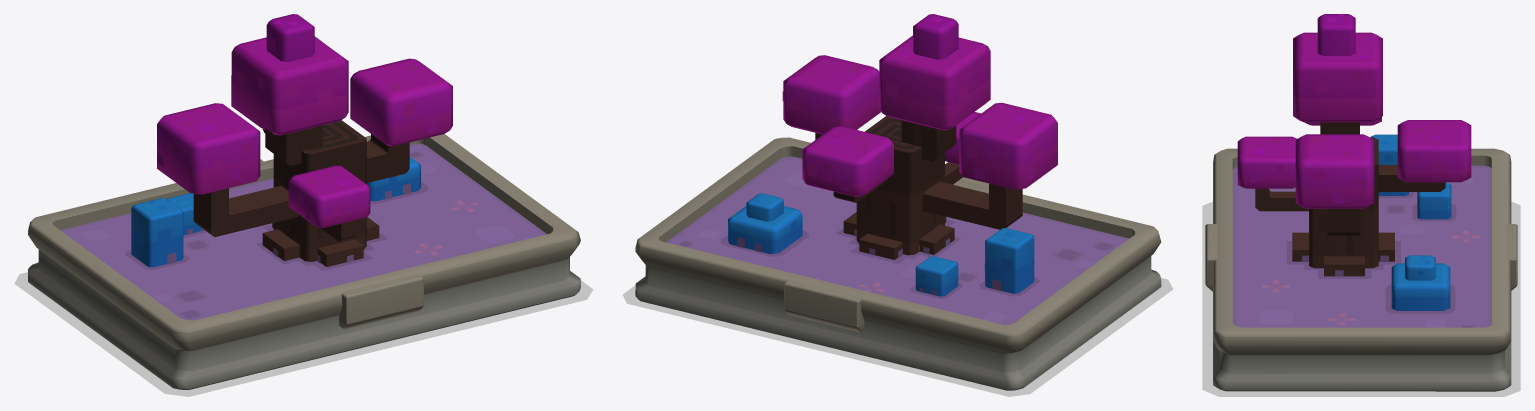
The model's file is MG_forest02_rect_small.fbx.
The picture shows the model from 3 angles, left to right: view 1: azimuth 30°, elevation 25°; view 2: azimuth 150°, elevation 25°; view 3: azimuth 270°, elevation 25°; orthographic projection. The views are drawn at different scales.
Parts seen in each view (by area): view 1: model, ground; view 2: model, ground; view 3: model, ground.
Part boxes in pixels (box(x1,y1,x2,y2)): model: box(28, 14, 580, 389); ground: box(14, 272, 593, 396); model: box(635, 14, 1161, 390); ground: box(622, 278, 1173, 396); model: box(1205, 14, 1517, 391); ground: box(1202, 201, 1520, 396).
Size of the model in its own units: 14.67 by 9.18 by 9.97.
